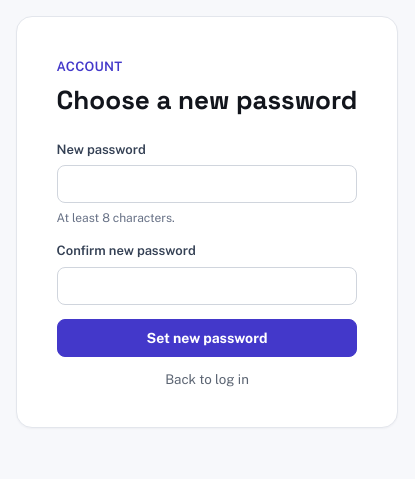
ResetPassword › reports an expired or already-used token
This screenshot has width=415, height=479.
In the password field labelled "New password": (207, 184) [57,165,357,203], type "hunter2222"
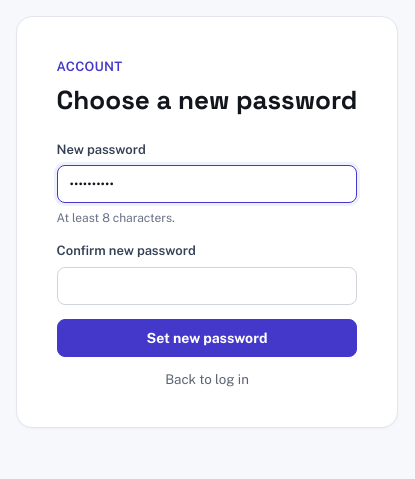
In the password field labelled "Confirm new password": (207, 286) [57,266,357,304], type "hunter2222"
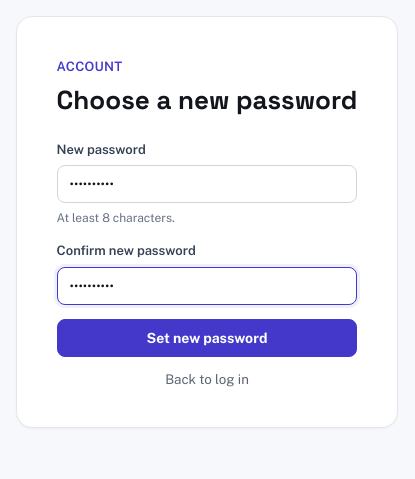
Click the button "Set new password": (207, 338) [57,318,357,357]
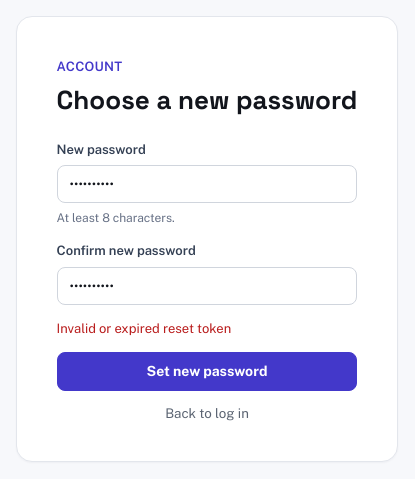
Expected: the text "Invalid or expired reset token" is shown, [57,320,231,336]
